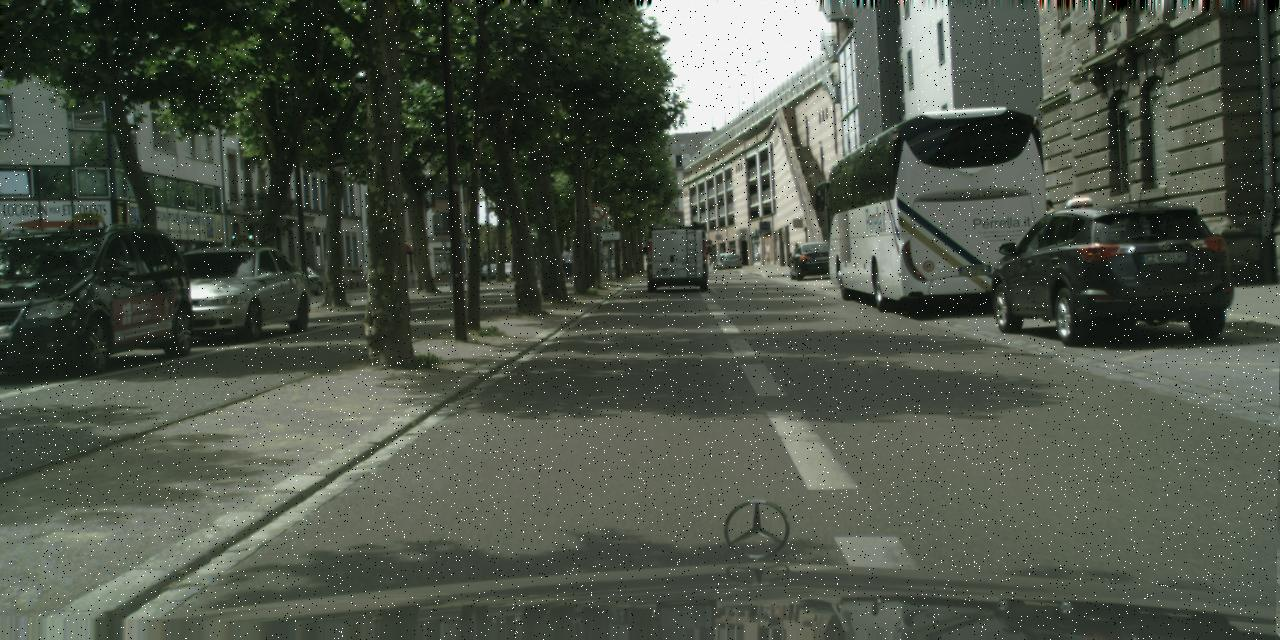ped: (1032, 198, 1066, 282), (560, 246, 574, 282)
